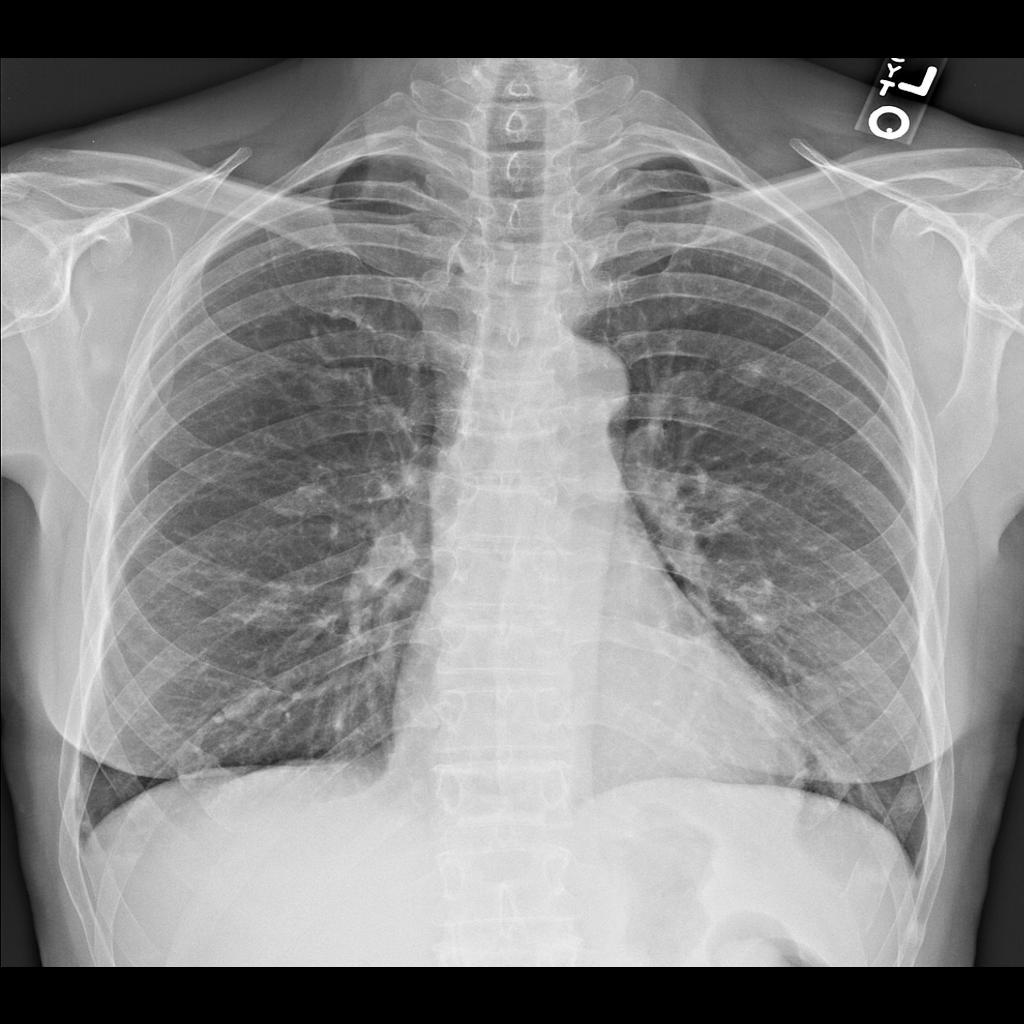Nodule: (734, 575, 780, 626), (731, 348, 778, 394)
